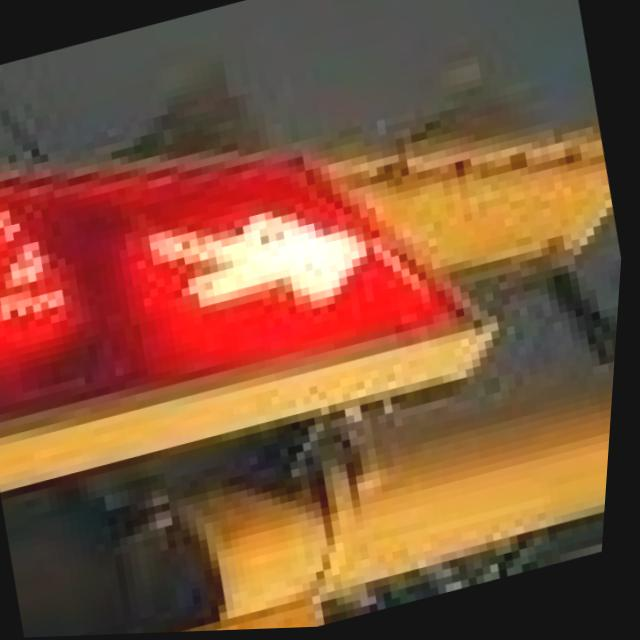red_light: (135, 139, 447, 394)
